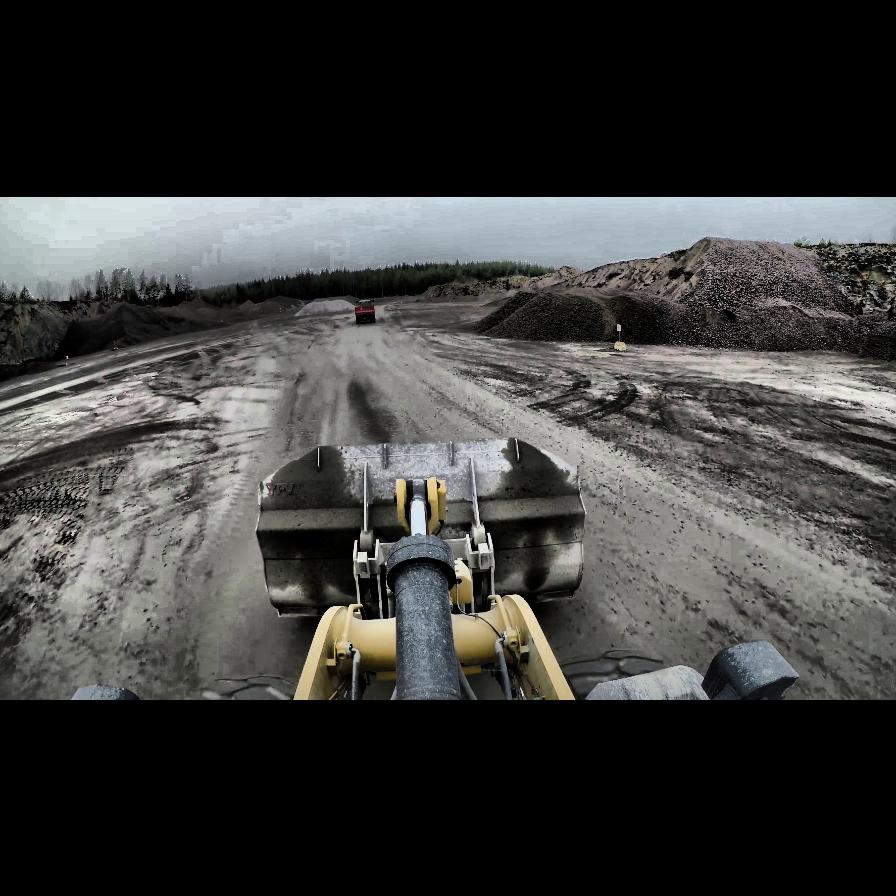anchor: (396, 476, 444, 536)
pile of gravel: (516, 231, 896, 355), (51, 298, 233, 362), (470, 286, 636, 342), (424, 273, 544, 303), (466, 294, 534, 336), (164, 298, 252, 326), (295, 296, 361, 316), (238, 296, 298, 314), (422, 280, 474, 300), (61, 298, 106, 320), (326, 294, 360, 304), (238, 298, 260, 310)
